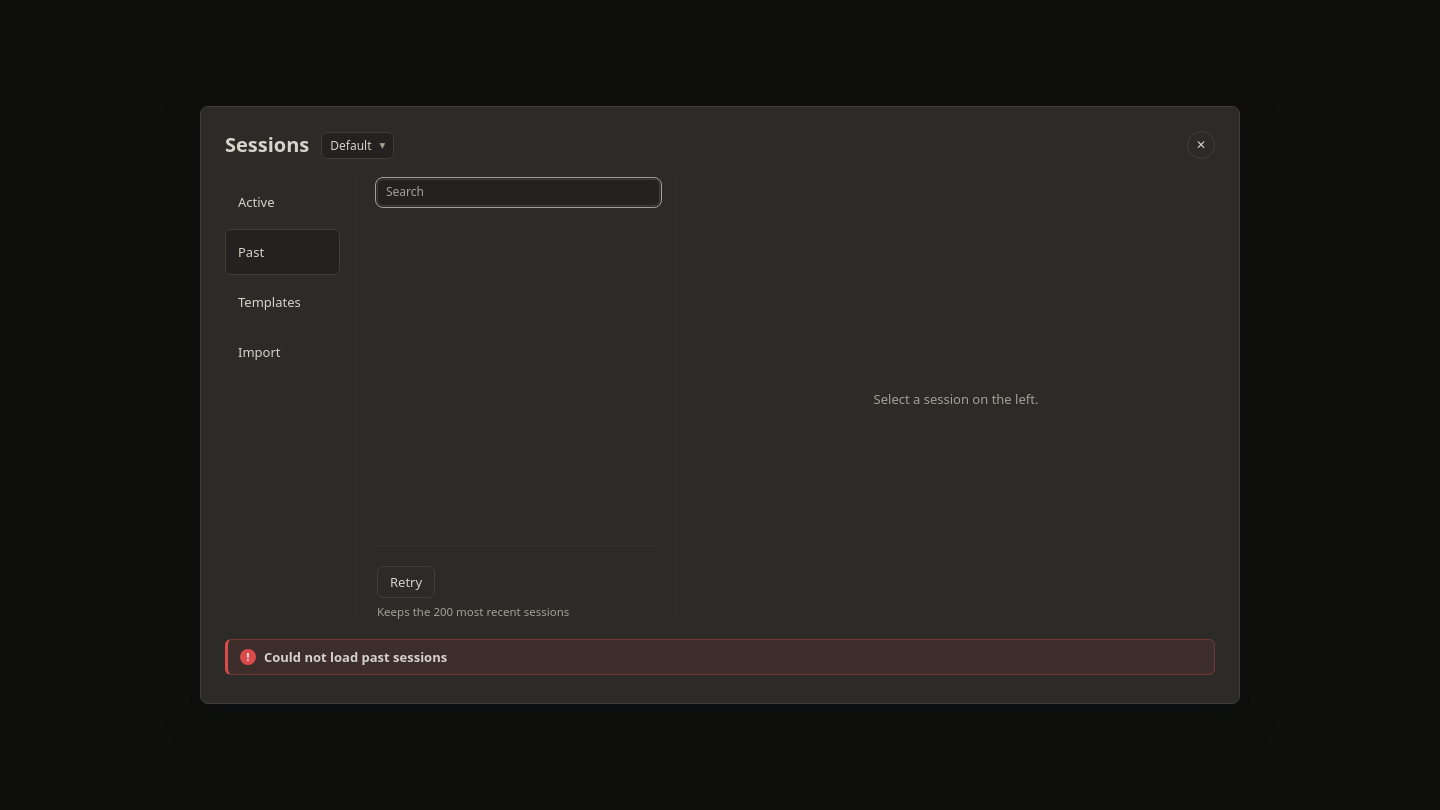
PastSessionsDialog — Loading… and Retry › a failed load keeps the error line and offers Retry, which loads again
Check: the message "Could not load past sessions" is shown, box left=225, top=639, right=1215, bottom=675
What coordinates should you click on to do the following:
click the button with test id "past-sessions-retry"
I would click on:
 (406, 582)
Its box is left=377, top=566, right=435, bottom=598.
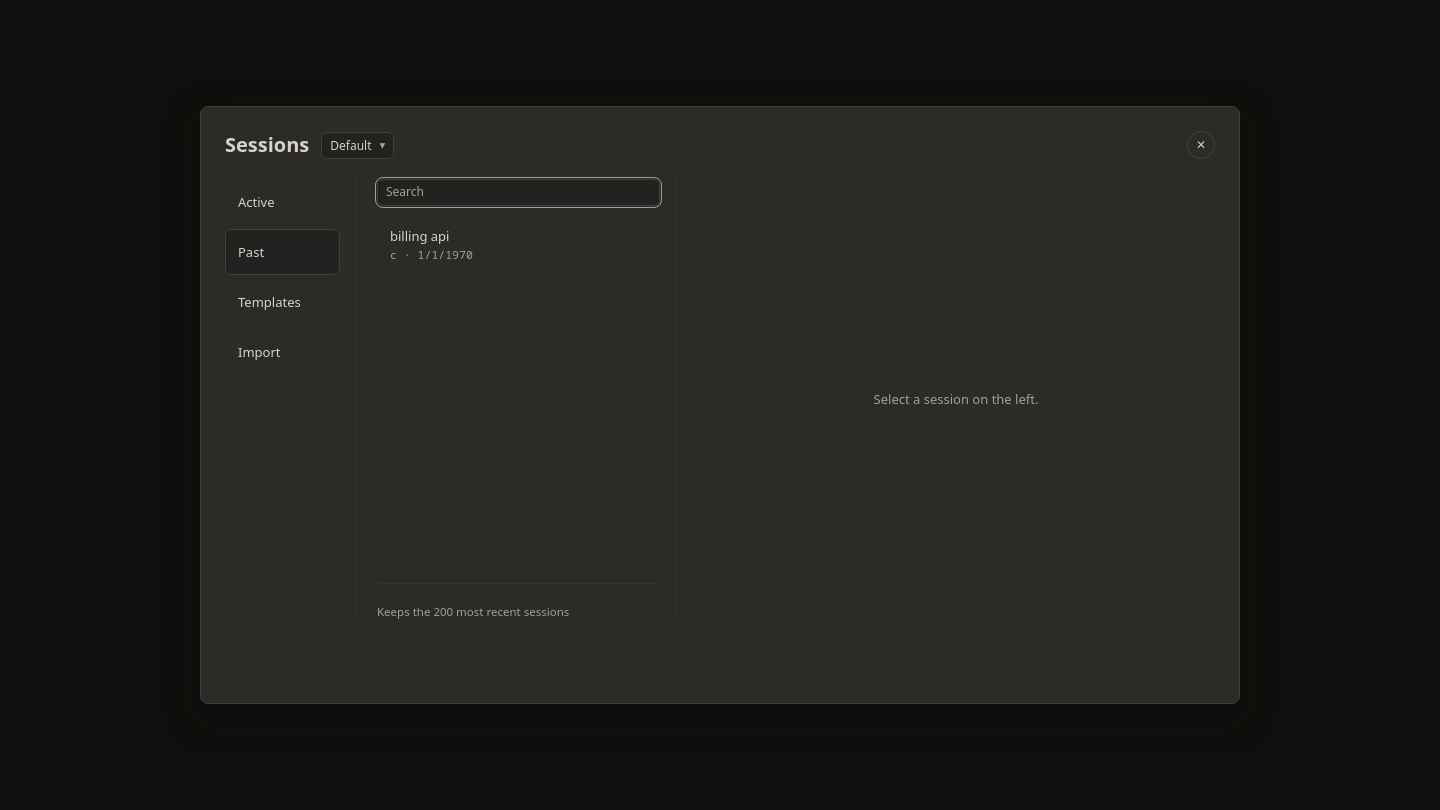
Check: the number of elements with test id "past-session-row" is 1, box left=377, top=218, right=660, bottom=271
